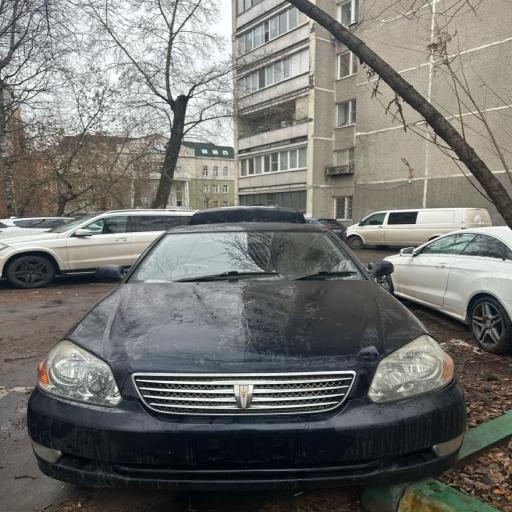book: (25, 218, 466, 497), (0, 204, 218, 284), (379, 224, 512, 353)
